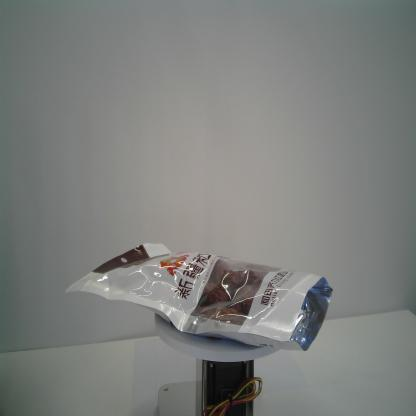Dried Food: (62, 240, 334, 354)
